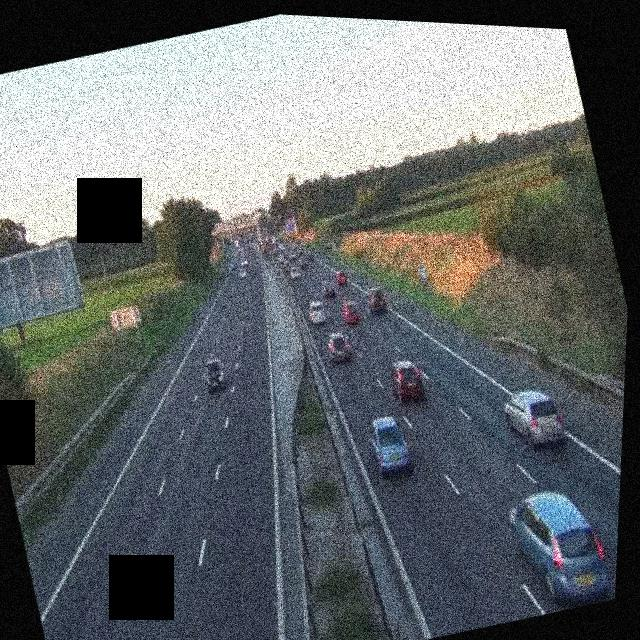car: (501, 479, 618, 619), (500, 382, 570, 454), (362, 410, 416, 479), (386, 355, 430, 407), (323, 326, 354, 365), (201, 353, 228, 392), (364, 283, 389, 314), (339, 297, 363, 326), (306, 299, 328, 325), (320, 276, 337, 297), (333, 269, 350, 289), (299, 251, 313, 268), (288, 264, 302, 280), (235, 264, 247, 279), (277, 251, 289, 266), (304, 248, 315, 263)
